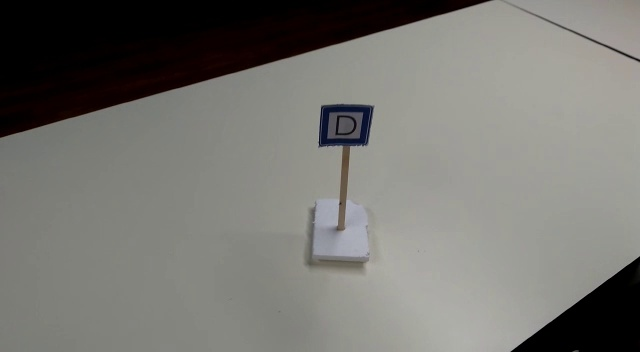durak: (319, 102, 374, 149)
